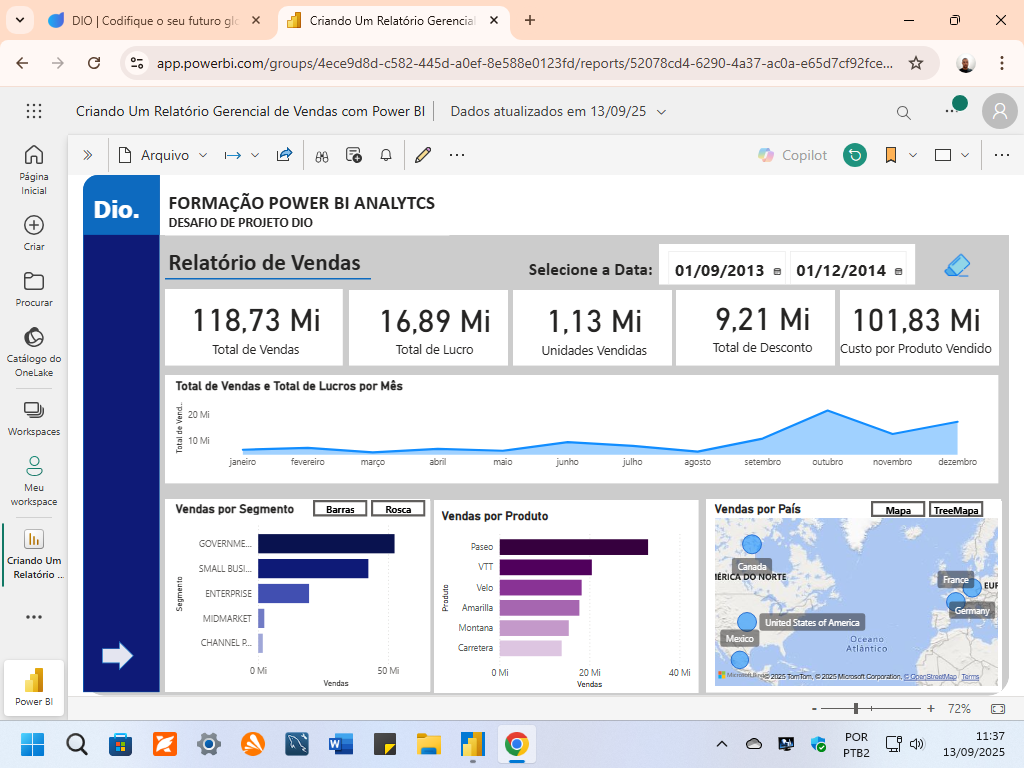

The dashboard page shown, as its layout file describes it:
{"tool":"powerbi","page":{"name":"Página 1","canvas":[1280,720],"ordinal":0},"visuals":[{"type":"shape","box":[0,0,106,715],"z":0,"group":"g9"},{"type":"shape","title":"Fundo","box":[0,0,1280,719.5],"z":0},{"type":"shape","box":[106.5,0,1173.5,83.3],"z":0,"group":"g5"},{"type":"textbox","box":[609.8,109.9,183.1,43.9],"z":0,"group":"g2"},{"type":"shape","box":[113.4,134.3,284.7,18.5],"z":0,"group":"g6"},{"type":"shape","box":[113.4,157.4,245.8,106],"z":0,"group":"g1"},{"type":"shape","box":[113.8,275.7,1152,150.1],"z":0,"group":"g7"},{"type":"shape","box":[860.8,447.2,408.1,267.7],"z":0,"group":"g3"},{"type":"shape","box":[113.6,448.4,366.6,266.6],"z":0,"group":"g4"},{"type":"shape","box":[485.1,448.8,365.9,266.8],"z":0,"group":"g8"},{"type":"shape","box":[0,0,106,82.6],"z":1000,"group":"g9"},{"type":"textbox","box":[113.4,16.2,393.5,67.1],"z":1000,"group":"g5"},{"type":"slicer","fields":{"Values":["financials.Date"]},"box":[796.3,94.9,354.1,55.6],"z":1000,"group":"g2"},{"type":"textbox","box":[113.5,97.1,283.8,56.8],"z":1000,"group":"g6"},{"type":"group","id":"g1","title":"Cartão","box":[113.4,155.7,1152.7,108.2],"z":1000},{"type":"shape","box":[368,159.1,219.8,104.8],"z":1000,"group":"g1"},{"type":"areaChart","fields":{"Category":["financials.Date.Variation.Hierarquia de datas.Mês"],"Y":["Sum(financials.Sales)"]},"box":[123.1,280.1,1126.6,134.9],"z":1000,"group":"g7"},{"type":"map","title":"Vendas por País","fields":{"Category":["financials.Country"],"Size":["Sum(financials.Sales)"]},"box":[867.2,450.6,400.8,260.4],"z":1000,"group":"g3"},{"type":"donutChart","title":"Vendas por Segmento ","fields":{"Y":["Sum(financials.Sales)"],"Category":["financials.Segment"]},"box":[122.8,451.1,356.8,262.6],"z":1000,"group":"g4"},{"type":"clusteredBarChart","fields":{"Y":["Sum(financials.Sales)"],"Category":["financials.Product"]},"box":[491.1,459.4,353.8,254.7],"z":1000,"group":"g8"},{"type":"clusteredBarChart","title":"Vendas por Segmento","fields":{"Y":["Sum(financials.Sales)"],"Category":["financials.Segment"]},"box":[122.8,451.1,354.5,262.6],"z":1250,"group":"g4"},{"type":"actionButton","title":"Botão Barras","box":[318.1,449.9,75.3,22.7],"z":1500,"group":"g4"},{"type":"actionButton","title":"Botão Rosca","box":[398.9,449.9,75.3,22.7],"z":1750,"group":"g4"},{"type":"textbox","title":"Logo Dio","box":[9.2,22,89.7,53.1],"z":2000,"group":"g9"},{"type":"image","title":"Borracha","box":[1175.6,97.1,67.8,53.1],"z":2000,"group":"g2"},{"type":"shape","box":[594.1,159.1,219.8,104.8],"z":2000,"group":"g1"},{"type":"treemap","title":"Vendas por País","fields":{"Group":["financials.Country"],"Values":["Sum(financials.Sales)"]},"box":[856.5,456.7,405,262.3],"z":2000,"group":"g3"},{"type":"actionButton","title":"Botão Mapa","box":[1088.4,450.2,75,22],"z":2250,"group":"g3"},{"type":"actionButton","title":"Botão TreeMapa","box":[1168.9,450.2,75,22],"z":2500,"group":"g3"},{"type":"group","id":"g2","title":"Filtro de Data","box":[609.8,94.9,657.8,58.9],"z":3000},{"type":"actionButton","box":[1155.8,97,111.8,55.9],"z":3000,"group":"g2"},{"type":"shape","box":[820.2,159.1,219.8,104.8],"z":3000,"group":"g1"},{"type":"shape","box":[1046.3,159.1,219.8,104.8],"z":4000,"group":"g1"},{"type":"group","id":"g3","title":"Vendas por País","box":[856.5,447.2,412.4,271.8],"z":4000},{"type":"card","fields":{"Values":["Sum(financials.Units Sold)"]},"box":[608.7,159.8,196.7,97.2],"z":5000,"group":"g1"},{"type":"group","id":"g4","title":"Vendas por Segmento","box":[113.6,448.4,366.6,266.6],"z":5000},{"type":"group","id":"g5","title":"Título","box":[106.5,0,1173.5,83.3],"z":6000},{"type":"card","fields":{"Values":["Sum(financials.Profit)"]},"box":[383.6,158.7,206,97.9],"z":6000,"group":"g1"},{"type":"group","id":"g6","title":"Subtítulo","box":[113.4,97.1,284.7,56.8],"z":7000},{"type":"card","fields":{"Values":["Sum(financials.COGS)"]},"box":[1036.4,155.7,228.9,100.7],"z":7000,"group":"g1"},{"type":"card","fields":{"Values":["Sum(financials.Sales)"]},"box":[129.6,159.8,217.6,94.9],"z":8000,"group":"g1"},{"type":"group","id":"g7","title":"Gráfico de Linha","box":[113.8,275.7,1152,150.1],"z":8000},{"type":"card","fields":{"Values":["Sum(financials.Discounts)"]},"box":[831.3,155.7,214.2,98.9],"z":9000,"group":"g1"},{"type":"group","id":"g8","title":"Vendas por Produto","box":[485.1,448.8,365,267.1],"z":9000},{"type":"group","id":"g9","title":"Dio","box":[0,0,106,715],"z":10000},{"type":"shape","box":[25.8,643.8,43.9,40.9],"z":11000}]}

Visuals, with their boxes on the page's 1280x720 design canvas (x1, y1, x2, y2). These are canvas units, not pixel positions in the 1024x768 screenshot, which may show the page scaled, cropped or inside an application window:
shape: box=[0, 0, 106, 715]
"Fundo" shape: box=[0, 0, 1280, 720]
shape: box=[106, 0, 1280, 83]
textbox: box=[610, 110, 793, 154]
shape: box=[113, 134, 398, 153]
shape: box=[113, 157, 359, 263]
shape: box=[114, 276, 1266, 426]
shape: box=[861, 447, 1269, 715]
shape: box=[114, 448, 480, 715]
shape: box=[485, 449, 851, 716]
shape: box=[0, 0, 106, 83]
textbox: box=[113, 16, 507, 83]
slicer - financials.Date: box=[796, 95, 1150, 150]
textbox: box=[114, 97, 397, 154]
"Cartão" group: box=[113, 156, 1266, 264]
shape: box=[368, 159, 588, 264]
areaChart - financials.Date.Variation.Hierarquia de datas.Mês x Sum(financials.Sales): box=[123, 280, 1250, 415]
"Vendas por País" map: box=[867, 451, 1268, 711]
"Vendas por Segmento " donutChart: box=[123, 451, 480, 714]
clusteredBarChart - Sum(financials.Sales) x financials.Product: box=[491, 459, 845, 714]
"Vendas por Segmento" clusteredBarChart: box=[123, 451, 477, 714]
"Botão Barras" actionButton: box=[318, 450, 393, 473]
"Botão Rosca" actionButton: box=[399, 450, 474, 473]
"Logo Dio" textbox: box=[9, 22, 99, 75]
"Borracha" image: box=[1176, 97, 1243, 150]
shape: box=[594, 159, 814, 264]
"Vendas por País" treemap: box=[856, 457, 1262, 719]
"Botão Mapa" actionButton: box=[1088, 450, 1163, 472]
"Botão TreeMapa" actionButton: box=[1169, 450, 1244, 472]
"Filtro de Data" group: box=[610, 95, 1268, 154]
actionButton: box=[1156, 97, 1268, 153]
shape: box=[820, 159, 1040, 264]
shape: box=[1046, 159, 1266, 264]
"Vendas por País" group: box=[856, 447, 1269, 719]
card - Sum(financials.Units Sold): box=[609, 160, 805, 257]
"Vendas por Segmento" group: box=[114, 448, 480, 715]
"Título" group: box=[106, 0, 1280, 83]
card - Sum(financials.Profit): box=[384, 159, 590, 257]
"Subtítulo" group: box=[113, 97, 398, 154]
card - Sum(financials.COGS): box=[1036, 156, 1265, 256]
card - Sum(financials.Sales): box=[130, 160, 347, 255]
"Gráfico de Linha" group: box=[114, 276, 1266, 426]
card - Sum(financials.Discounts): box=[831, 156, 1046, 255]
"Vendas por Produto" group: box=[485, 449, 850, 716]
"Dio" group: box=[0, 0, 106, 715]
shape: box=[26, 644, 70, 685]
